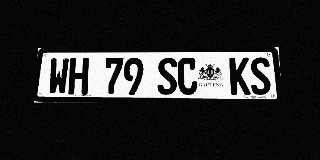7: (103, 58, 124, 95)
9: (123, 58, 143, 95)
C: (178, 58, 198, 95)
H: (68, 58, 89, 95)
K: (229, 57, 251, 95)
S: (249, 57, 272, 95), (157, 58, 177, 95)
W: (48, 58, 69, 95)
